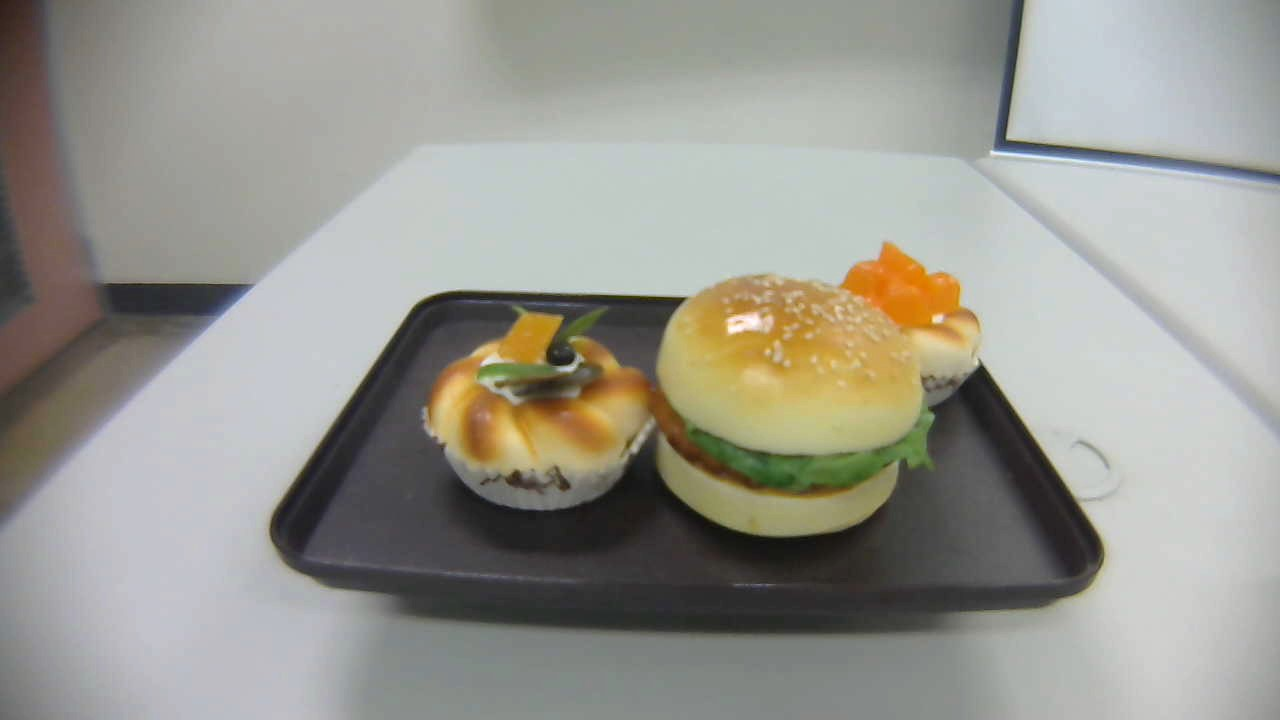fruit tart: (419, 306, 652, 512)
hamburger: (652, 273, 933, 539)
mango tart: (844, 242, 981, 412)
